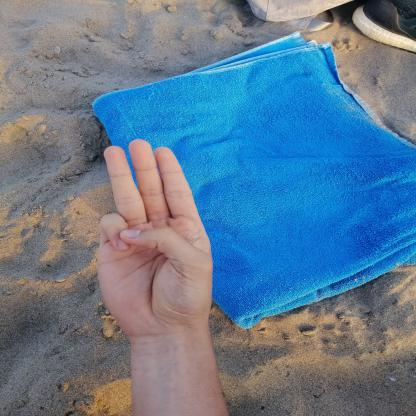THA: (73, 131, 233, 345)
